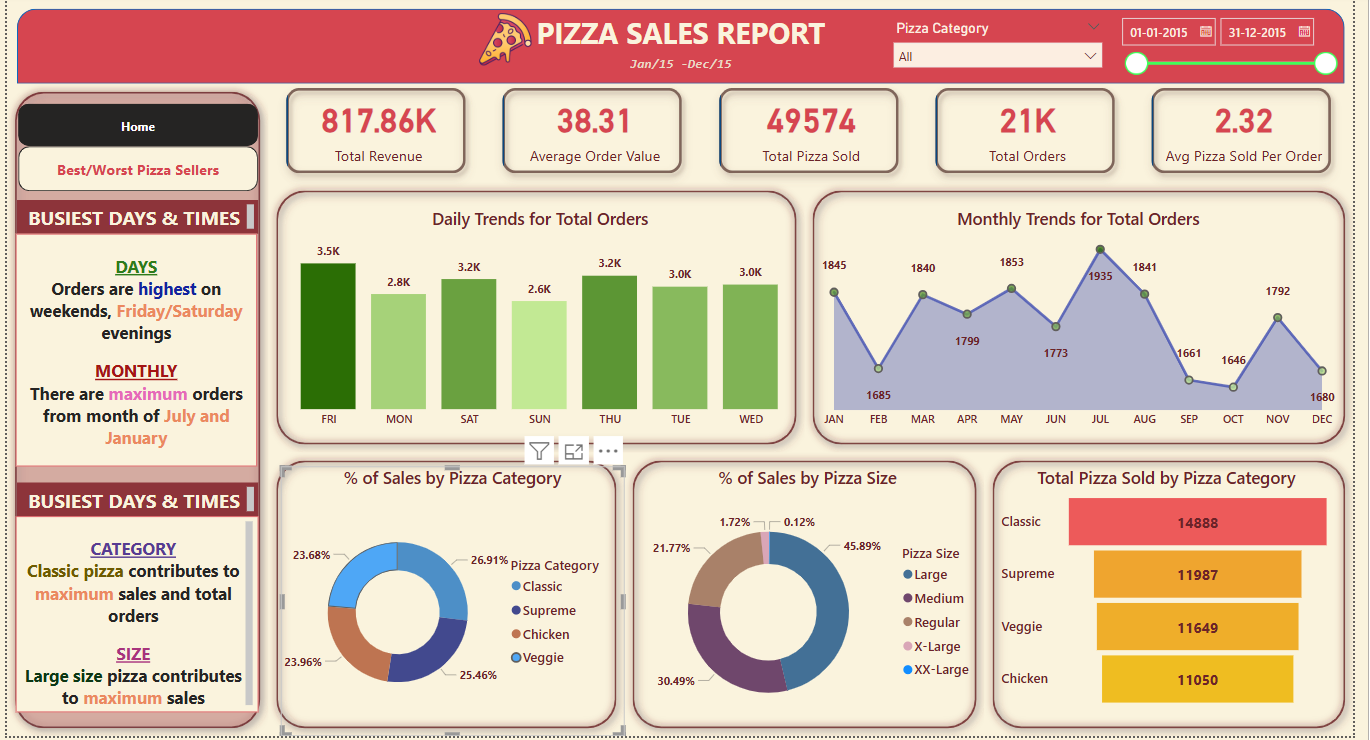

The dashboard page shown, as its layout file describes it:
{"tool":"powerbi","page":{"name":"Home","canvas":[1500,820],"ordinal":0},"visuals":[{"type":"shape","box":[11.1,9.7,1479,83.6],"z":0},{"type":"textbox","box":[523.6,9.7,454,58.5],"z":1000},{"type":"image","box":[491.6,9.7,126.7,68.2],"z":2000},{"type":"textbox","box":[604.4,57.1,292.5,43.2],"z":3000},{"type":"cardVisual","fields":{"Data":["pizza_sales.Total Revenue","pizza_sales.Average Order Value","pizza_sales.Total Pizza Sold","pizza_sales.Total Orders","pizza_sales.Avg Pizza Sold Per Order"]},"box":[291.1,78,1208.8,135.1],"z":4000},{"type":"shape","box":[291.1,203.3,597.5,300.8],"z":5000},{"type":"columnChart","title":"Daily Trends for Total Orders","fields":{"Y":["pizza_sales.Total Orders"],"Category":["pizza_sales.Order Day"]},"box":[291.1,231.2,605.8,254.9],"z":6000},{"type":"shape","box":[888.5,203.3,611.4,300.8],"z":7000},{"type":"areaChart","title":"Monthly Trends for Total Orders","fields":{"Category":["pizza_sales.Order Month"],"Y":["pizza_sales.Total Orders"]},"box":[896.9,231.2,593.3,254.9],"z":8000},{"type":"shape","box":[291.1,504.1,396.9,316.1],"z":9000},{"type":"shape","box":[688,504.1,401.1,316.1],"z":10000},{"type":"shape","box":[0,93.3,291.1,727],"z":11000},{"type":"shape","box":[1089.1,504.1,410.8,316.1],"z":12000},{"type":"donutChart","title":"% of Sales by Pizza Category","fields":{"Category":["pizza_sales.pizza_category"],"Y":["pizza_sales.Total Revenue"]},"box":[302.2,519.5,392.7,300.8],"z":13000},{"type":"donutChart","title":"% of Sales by Pizza Size","fields":{"Y":["pizza_sales.Total Revenue"],"Category":["pizza_sales.pizza_size"]},"box":[694.9,519.5,394.1,300.8],"z":14000},{"type":"funnel","title":"Total Pizza Sold by Pizza Category","fields":{"Category":["pizza_sales.pizza_category"],"Y":["pizza_sales.Total Pizza Sold"]},"box":[1103,519.5,377.4,274.4],"z":15000},{"type":"textbox","box":[11.1,222.8,268.8,37.6],"z":16000},{"type":"textbox","box":[9.7,260.4,268.8,259],"z":17000},{"type":"textbox","box":[11.1,537.6,268.8,37.6],"z":18000},{"type":"textbox","box":[9.7,575.2,270.2,218.6],"z":19000},{"type":"slicer","fields":{"Values":["pizza_sales.pizza_category"]},"box":[977.7,18.1,252.1,59.9],"z":20000},{"type":"slicer","fields":{"Values":["pizza_sales.order_date"]},"box":[1229.7,9.7,260.4,105.8],"z":21000},{"type":"pageNavigator","box":[12.5,115.6,267.4,47.4],"z":22000},{"type":"pageNavigator","box":[12.5,162.9,267.4,50.1],"z":23000}]}

Visuals, with their boxes in screenshot pixels (x1, y1, x2, y2), scaled from the page's 1500x820 canvas onto the 1370x740 screenshot:
shape: BBox(10, 9, 1361, 84)
textbox: BBox(478, 9, 893, 62)
image: BBox(449, 9, 565, 70)
textbox: BBox(552, 52, 819, 91)
cardVisual - pizza_sales.Total Revenue x pizza_sales.Average Order Value: BBox(266, 70, 1369, 192)
shape: BBox(266, 183, 812, 455)
"Daily Trends for Total Orders" columnChart: BBox(266, 209, 819, 439)
shape: BBox(811, 183, 1369, 455)
"Monthly Trends for Total Orders" areaChart: BBox(819, 209, 1361, 439)
shape: BBox(266, 455, 628, 739)
shape: BBox(628, 455, 995, 739)
shape: BBox(0, 84, 266, 739)
shape: BBox(995, 455, 1369, 739)
"% of Sales by Pizza Category" donutChart: BBox(276, 469, 635, 739)
"% of Sales by Pizza Size" donutChart: BBox(635, 469, 995, 739)
"Total Pizza Sold by Pizza Category" funnel: BBox(1007, 469, 1352, 716)
textbox: BBox(10, 201, 256, 235)
textbox: BBox(9, 235, 254, 469)
textbox: BBox(10, 485, 256, 519)
textbox: BBox(9, 519, 256, 716)
slicer - pizza_sales.pizza_category: BBox(893, 16, 1123, 70)
slicer - pizza_sales.order_date: BBox(1123, 9, 1361, 104)
pageNavigator: BBox(11, 104, 256, 147)
pageNavigator: BBox(11, 147, 256, 192)
